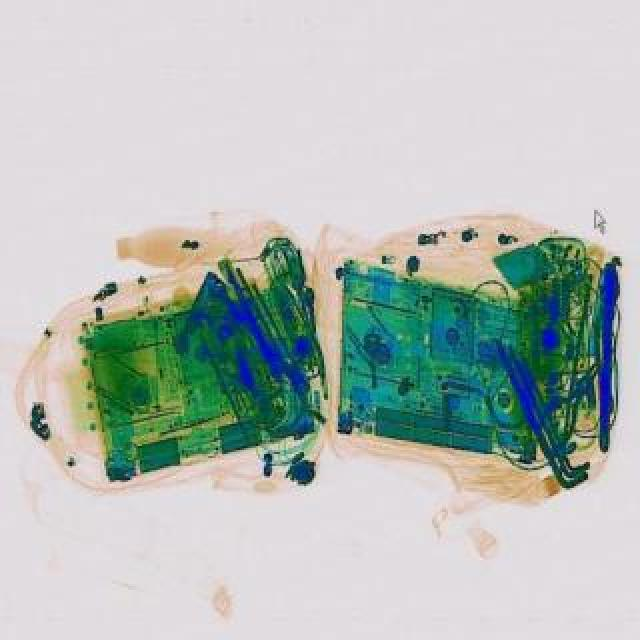scissors: (200, 272, 316, 398)
wrench: (524, 350, 616, 450)
